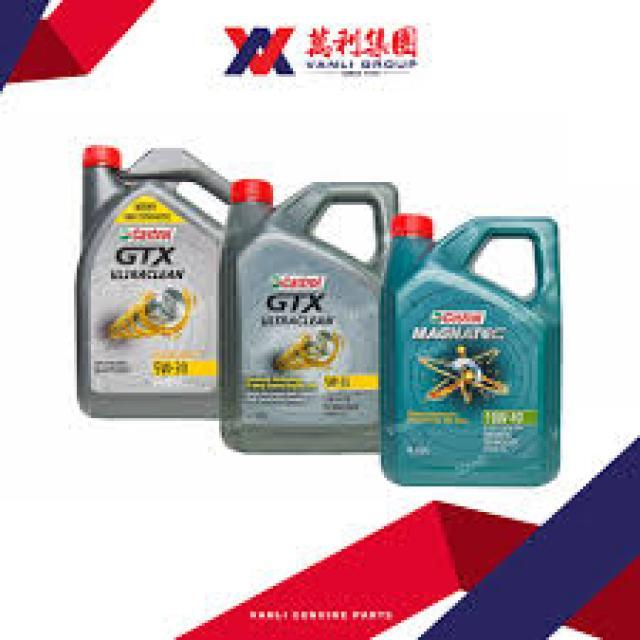motor_oil: (382, 212, 568, 496), (224, 175, 397, 453), (82, 142, 219, 432)
